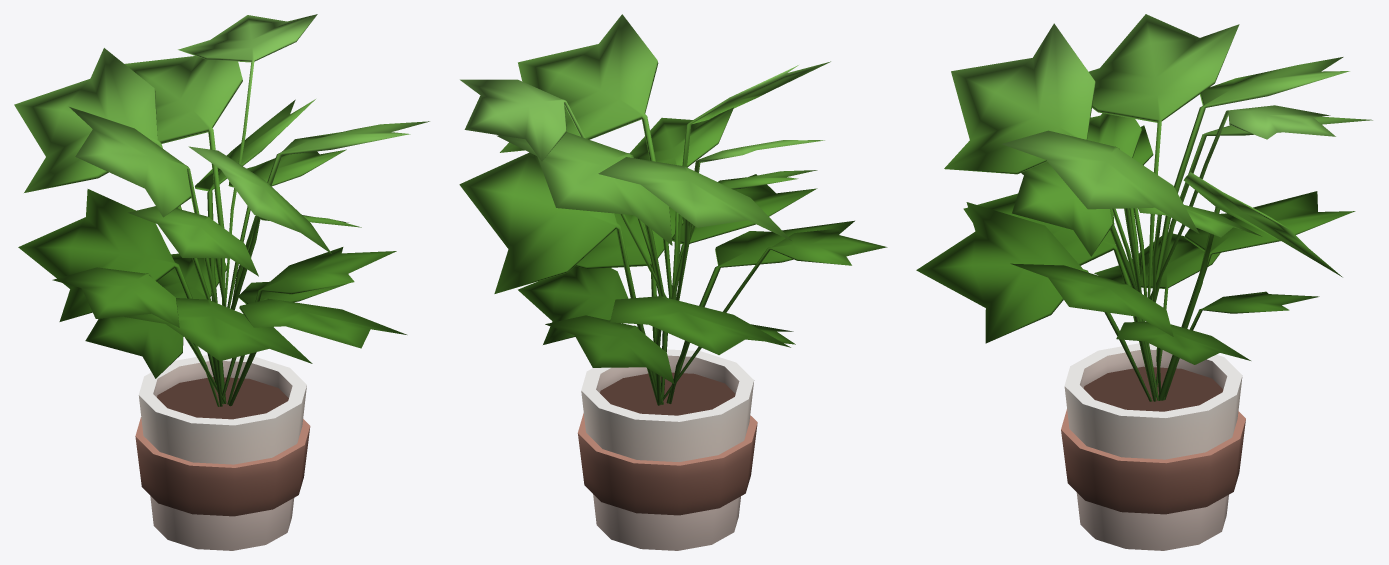
Rendered from Pflanze.fbx.
The picture shows the model from 3 angles, left to right: view 1: azimuth 30°, elevation 25°; view 2: azimuth 150°, elevation 25°; view 3: azimuth 270°, elevation 25°; orthographic projection. The views are drawn at different scales.
Parts seen in each view (by area): view 1: Cylinder.020; view 2: Cylinder.020; view 3: Cylinder.020.
Part boxes in pixels (box(x1,y1,x2,y2)): Cylinder.020: box(14, 14, 429, 550); Cylinder.020: box(459, 14, 887, 550); Cylinder.020: box(916, 14, 1372, 550).
Bounding box in the file's own units: 34.29 × 40.2 × 36.56.
